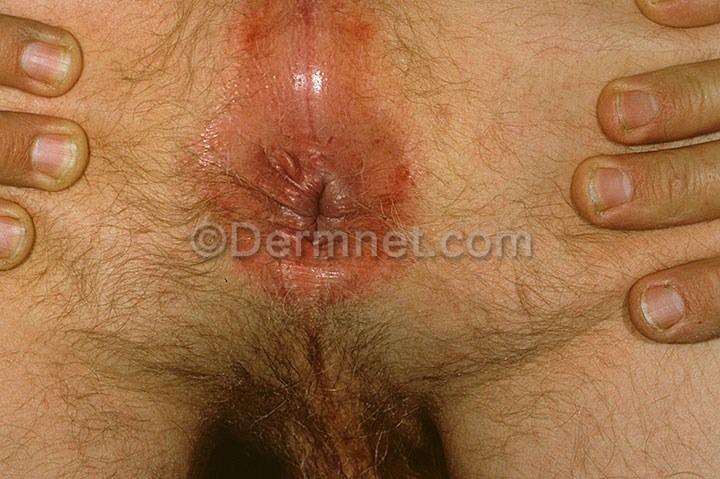Psoriasis: (200, 9, 422, 154), (204, 158, 429, 297)
